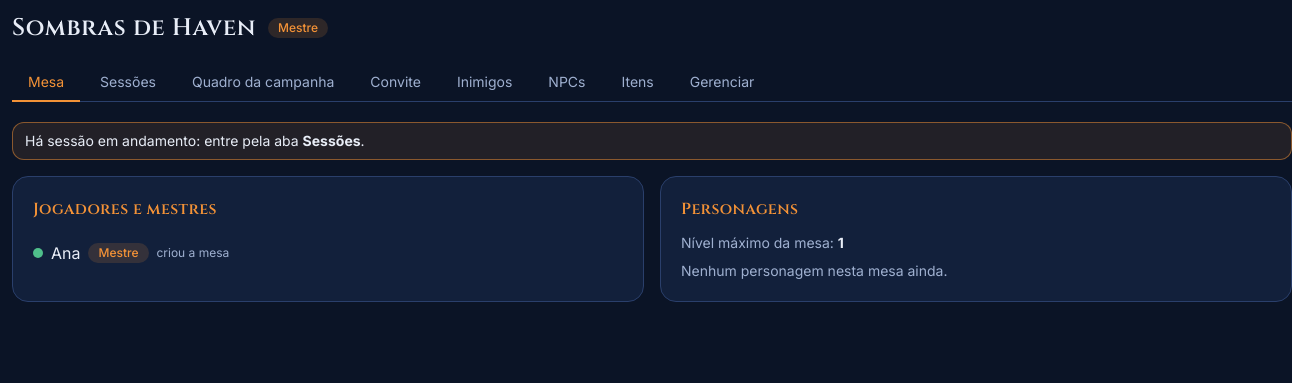
it: Página da mesa › mestre vê o convite numa aba própria
Expected: the heading "Jogadores e mestres" is shown, [33,197,217,221]
Click the tab "Convite".
click(396, 83)  # box [354,64,437,102]
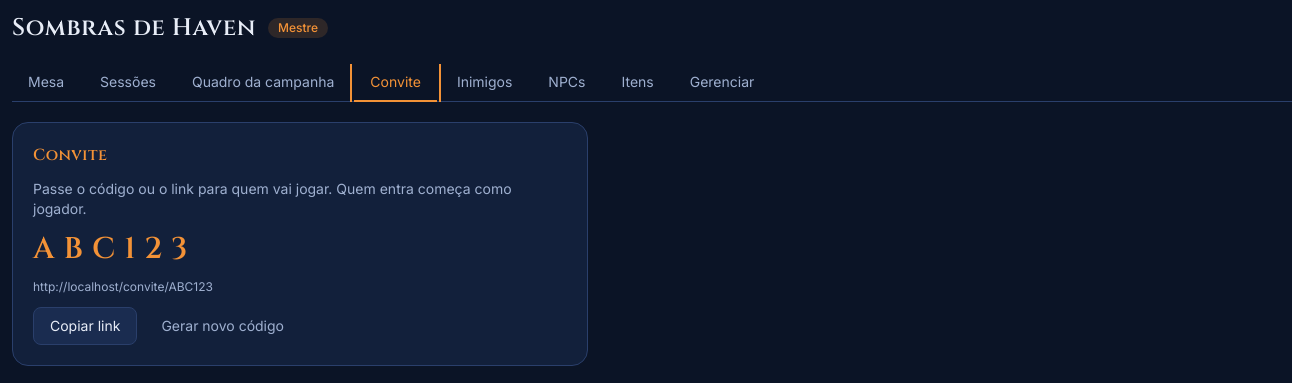
Now the text named "Código de convite" reads "ABC123", box [33,229,196,269]
